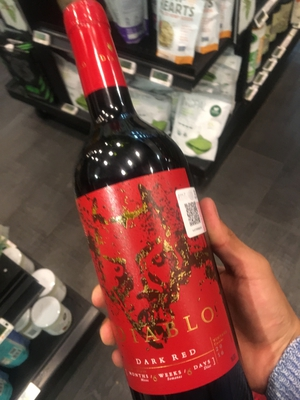diablo dark red: (56, 17, 232, 400)
